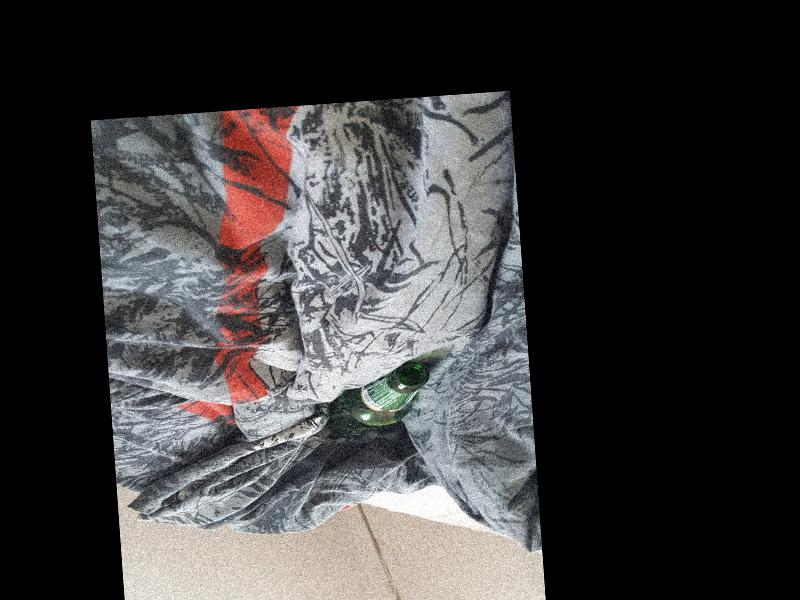Beer: (320, 359, 433, 438)
